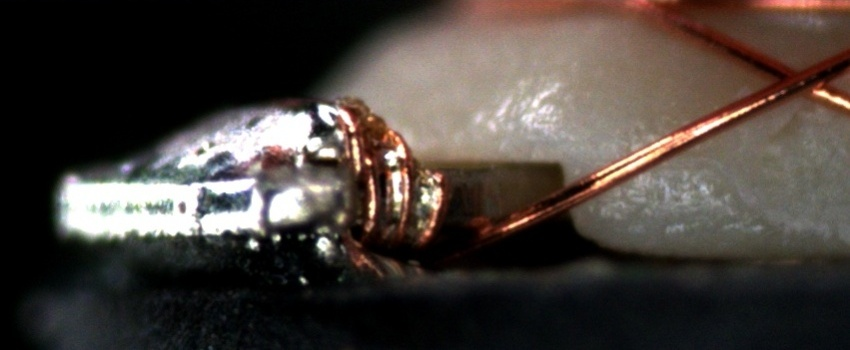CL: (752, 51, 846, 106)
DL: (593, 150, 710, 188)
TE: (322, 91, 451, 278)
